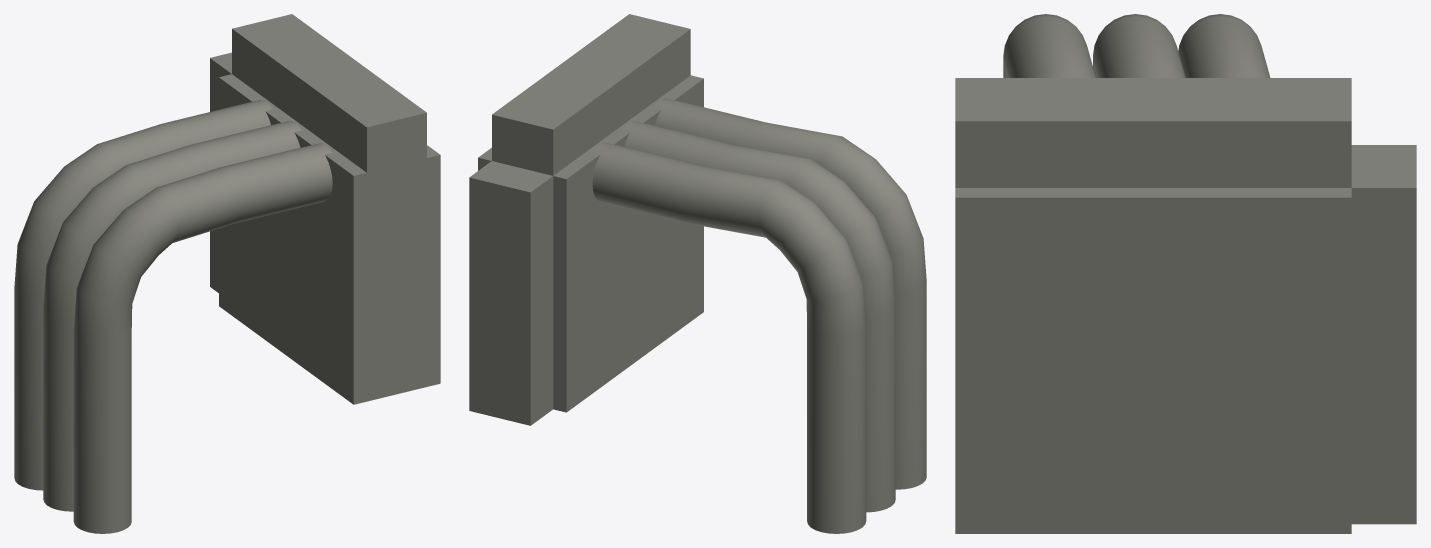
File: pipe_end_02.fbx
3 views of the same model, side by side, from view 1: azimuth 30°, elevation 25°; view 2: azimuth 150°, elevation 25°; view 3: azimuth 270°, elevation 25° (orthographic). The views are drawn at different scales.
Visible parts, largest first — view 1: pipe_end_02; view 2: pipe_end_02; view 3: pipe_end_02.
Boxes of the visible parts, x1=… form: pipe_end_02: x1=14, y1=14, x2=440, y2=533; pipe_end_02: x1=469, y1=14, x2=926, y2=533; pipe_end_02: x1=955, y1=14, x2=1416, y2=533.
Bounding box in the file's own units: 104 × 108 × 85.22.
